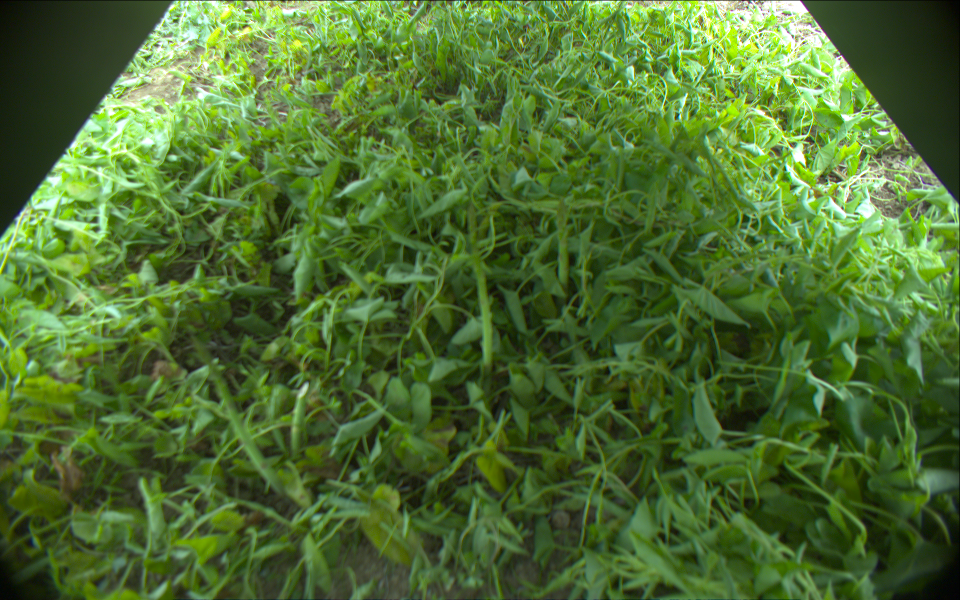aspa: (190, 334, 283, 495), (464, 203, 490, 372), (288, 382, 309, 458), (556, 199, 570, 297)
